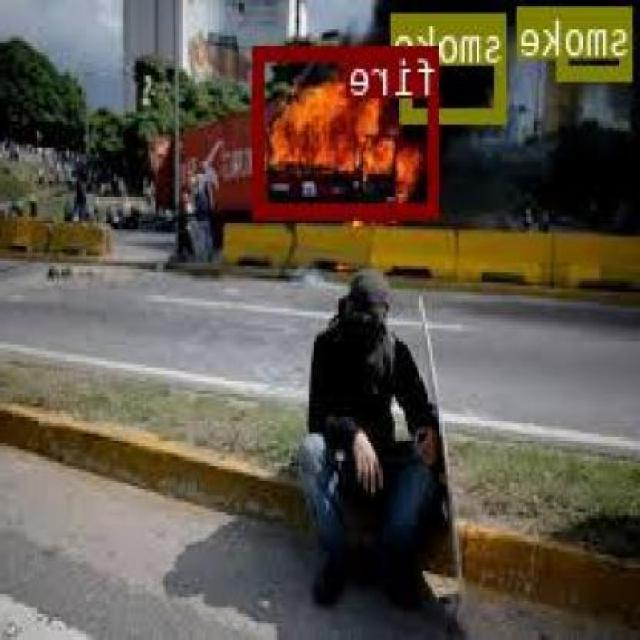fire: (256, 42, 441, 216)
smoke: (404, 10, 508, 121), (560, 4, 634, 78)
